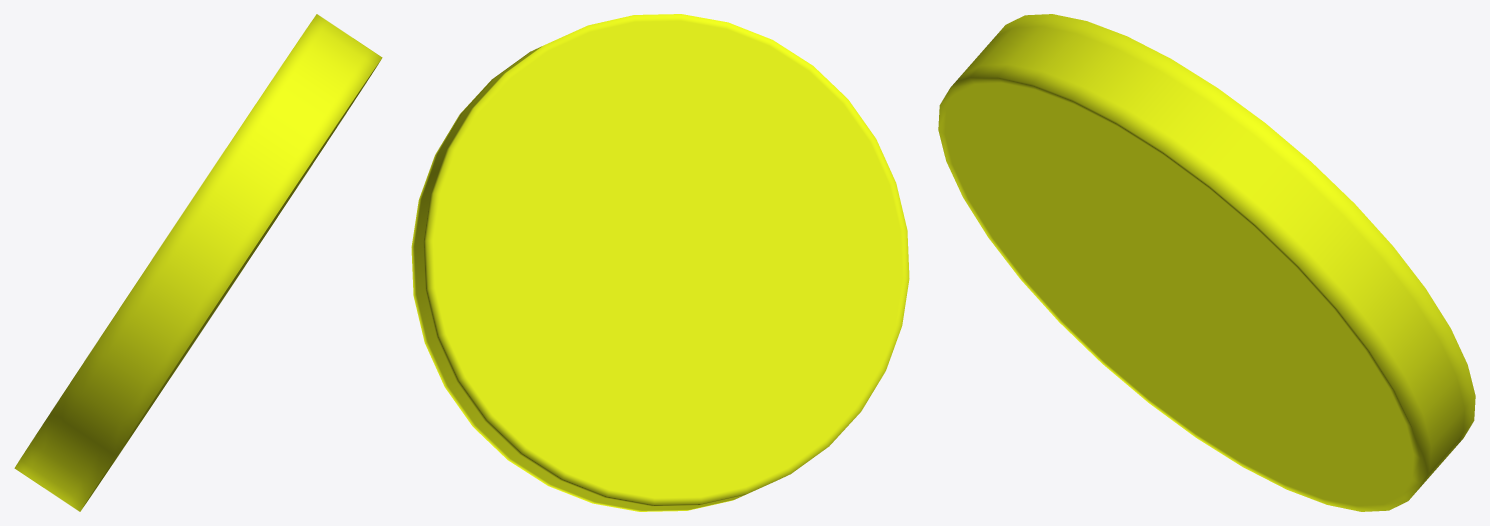
Rendered from Coin.glb.
3 views of the same model, side by side, from view 1: azimuth 30°, elevation 25°; view 2: azimuth 150°, elevation 25°; view 3: azimuth 270°, elevation 25° (orthographic). The views are drawn at different scales.
Parts seen in each view (by area): view 1: Coin.001; view 2: Coin.001; view 3: Coin.001.
Part boxes in pixels (x1,y1,x2,y2): Coin.001: [14, 14, 382, 511]; Coin.001: [411, 14, 909, 511]; Coin.001: [938, 14, 1475, 511].
Size of the model in its own units: 3.02 by 3.21 by 2.98.
